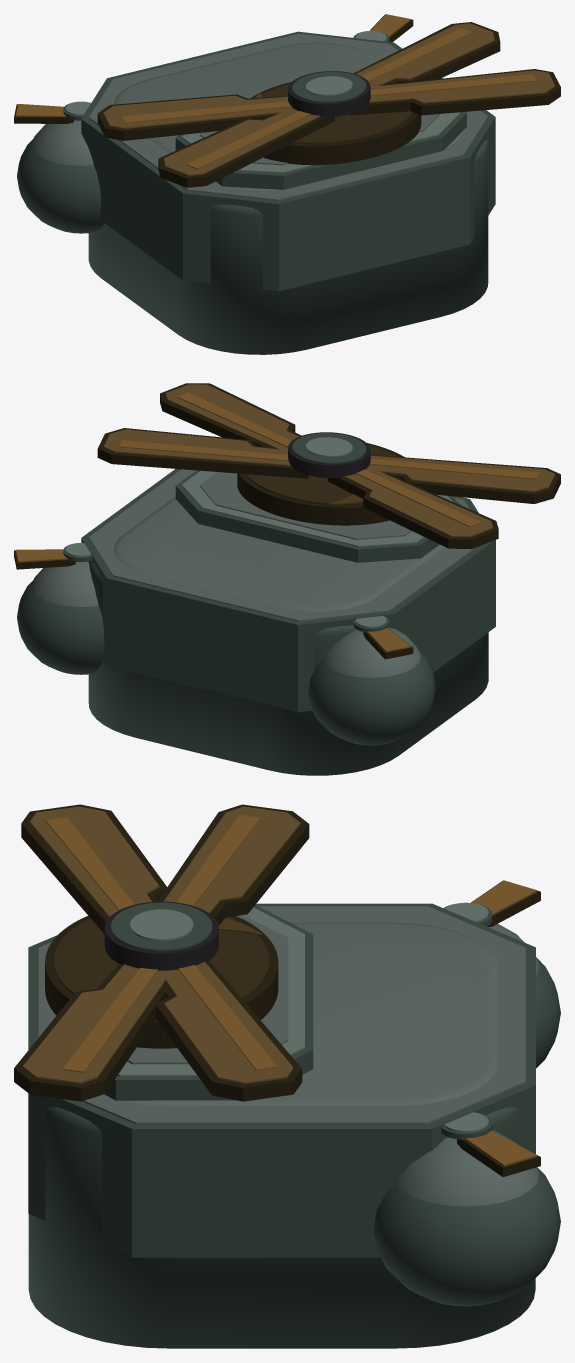
Rendered from body_helicoptero.fbx.
3 renders of one model, top to bottom at view 1: azimuth 30°, elevation 25°; view 2: azimuth 150°, elevation 25°; view 3: azimuth 270°, elevation 25°, orthographic. The views are drawn at different scales.
Parts seen in each view (by area): view 1: body_helicoptero_corpo, body_helicoptero_mao_esq, body_helicoptero_mao; view 2: body_helicoptero_corpo, body_helicoptero_mao_esq, body_helicoptero_mao; view 3: body_helicoptero_corpo, body_helicoptero_mao, body_helicoptero_mao_esq.
Part boxes in pixels (<box>): body_helicoptero_corpo: <box>81,22,560,354</box>; body_helicoptero_mao_esq: <box>14,101,104,233</box>; body_helicoptero_mao: <box>353,14,413,42</box>; body_helicoptero_corpo: <box>81,383,560,775</box>; body_helicoptero_mao_esq: <box>308,616,435,745</box>; body_helicoptero_mao: <box>14,543,104,674</box>; body_helicoptero_corpo: <box>14,804,535,1348</box>; body_helicoptero_mao: <box>373,1112,560,1306</box>; body_helicoptero_mao_esq: <box>444,880,560,1068</box>.
Bounding box in the file's own units: 5.4 × 2.76 × 4.32.
1 material, 1 textured.
